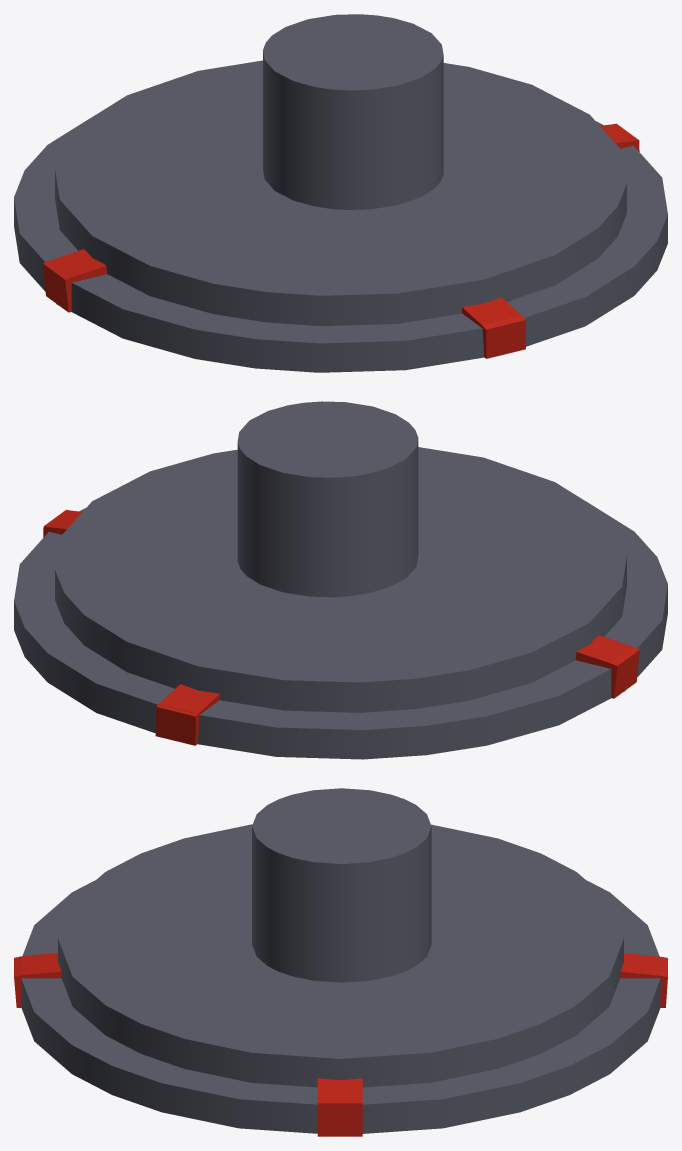
File: podium1.fbx
3 views of the same model, one above another, from view 1: azimuth 30°, elevation 25°; view 2: azimuth 150°, elevation 25°; view 3: azimuth 270°, elevation 25° (orthographic).
Parts seen in each view (by area): view 1: podium1; view 2: podium1; view 3: podium1.
Part boxes in pixels (left/top/right/bottom): podium1: left=14, top=14, right=667, bottom=372; podium1: left=14, top=401, right=667, bottom=759; podium1: left=14, top=788, right=667, bottom=1136.
Bounding box in the file's own units: 2013 × 600 × 2000.
